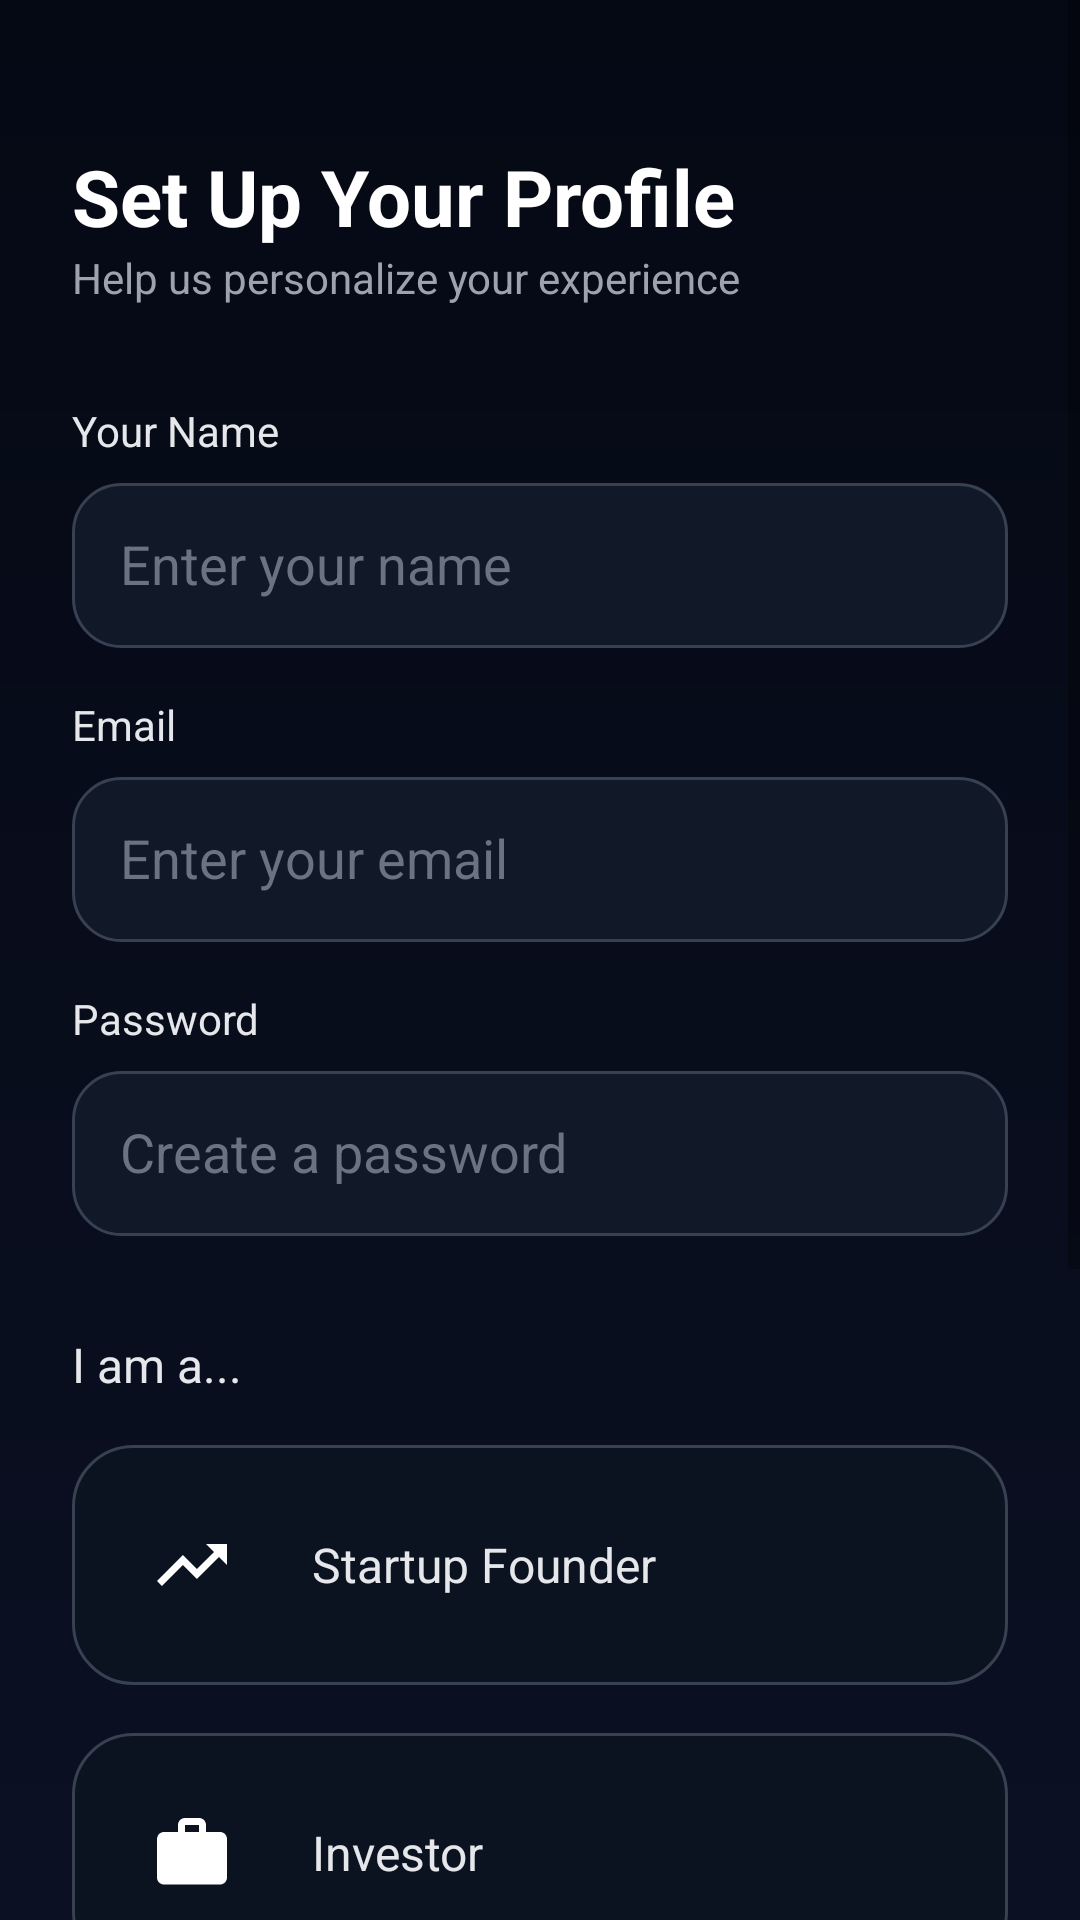

Named icons in this screenshot (1080px×1920px) and their bounding boxes, (x1, y1, x2, y2):
case: (157, 1818, 227, 1885)
graph: (157, 1544, 227, 1586)
